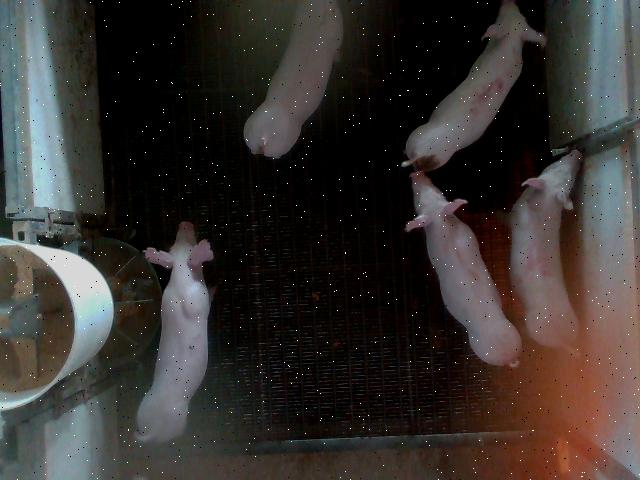pig-4: (509, 150, 582, 353)
pig-5: (405, 1, 545, 170)
